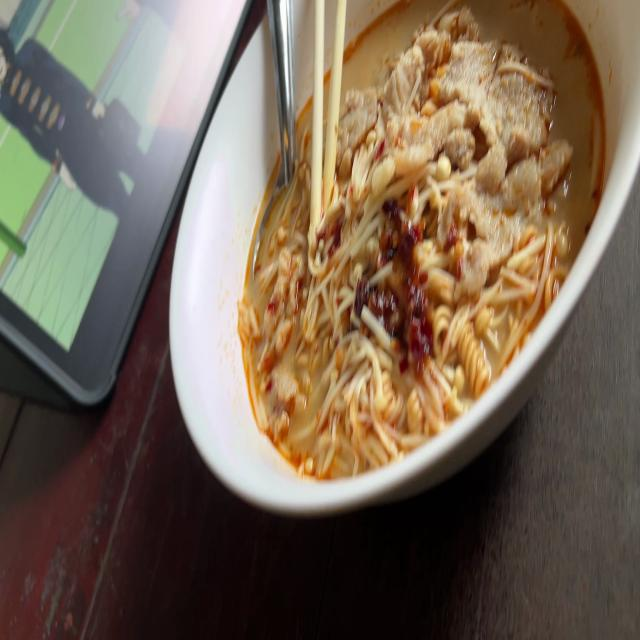noodle: (232, 0, 620, 491)
